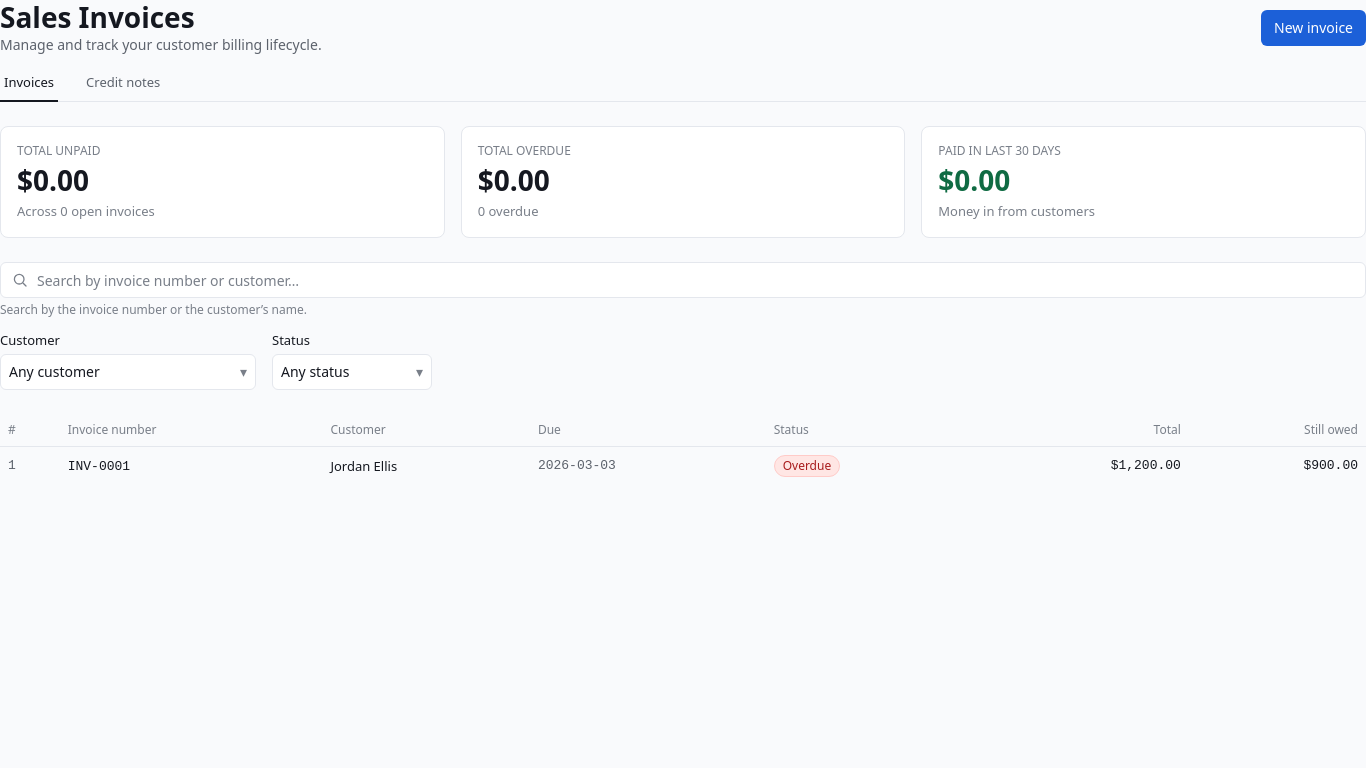
Test: SalesScreen › renders the void-with-allocations refusal as something to act on
This screenshot has width=1366, height=768.
What coordinates should you click on to do the following:
click the button "INV-0001"
I would click on:
 (99, 467)
Its box is [68,457,130,477].
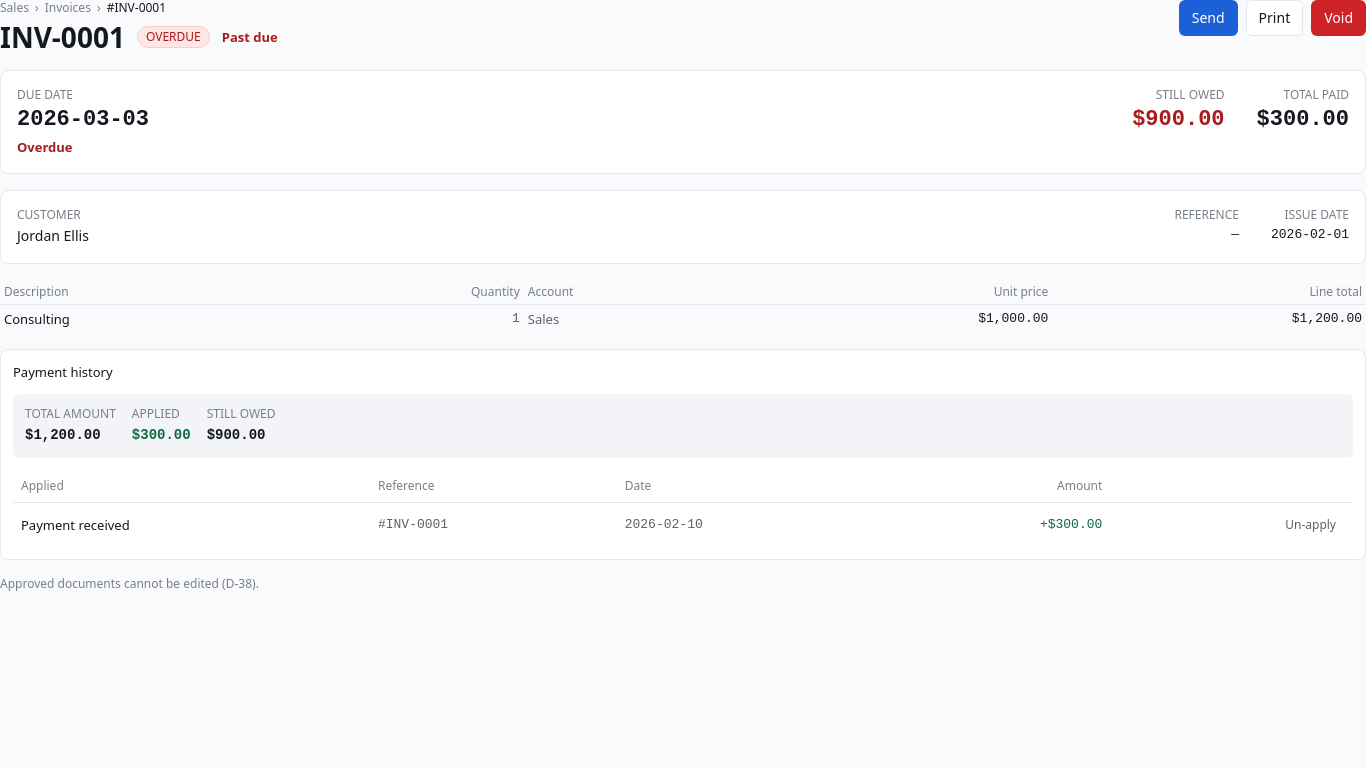
What coordinates should you click on to do the following:
click the button "Void"
I would click on:
 (1339, 18)
Its box is [1311,0,1365,36].
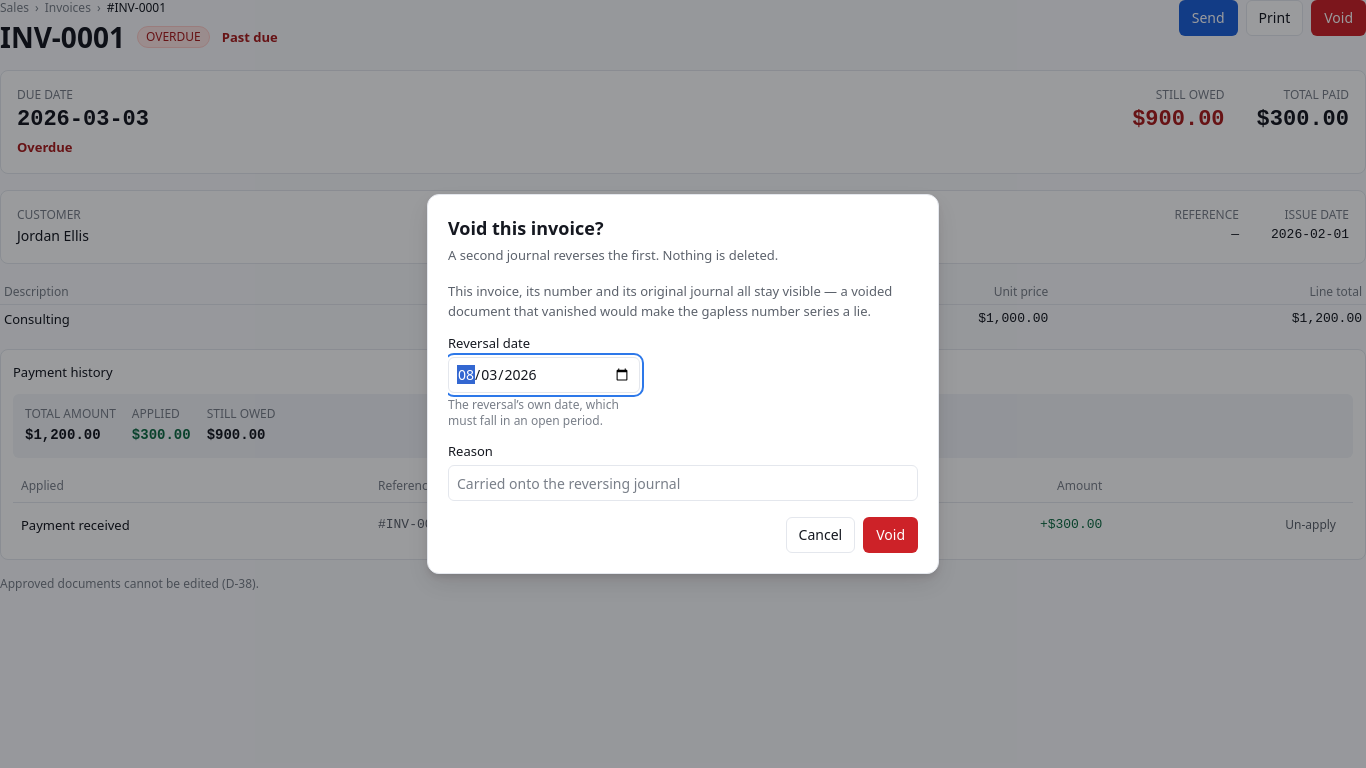
What coordinates should you click on to do the following:
click the button "Void"
I would click on:
 (891, 535)
Its box is [863,517,918,553].
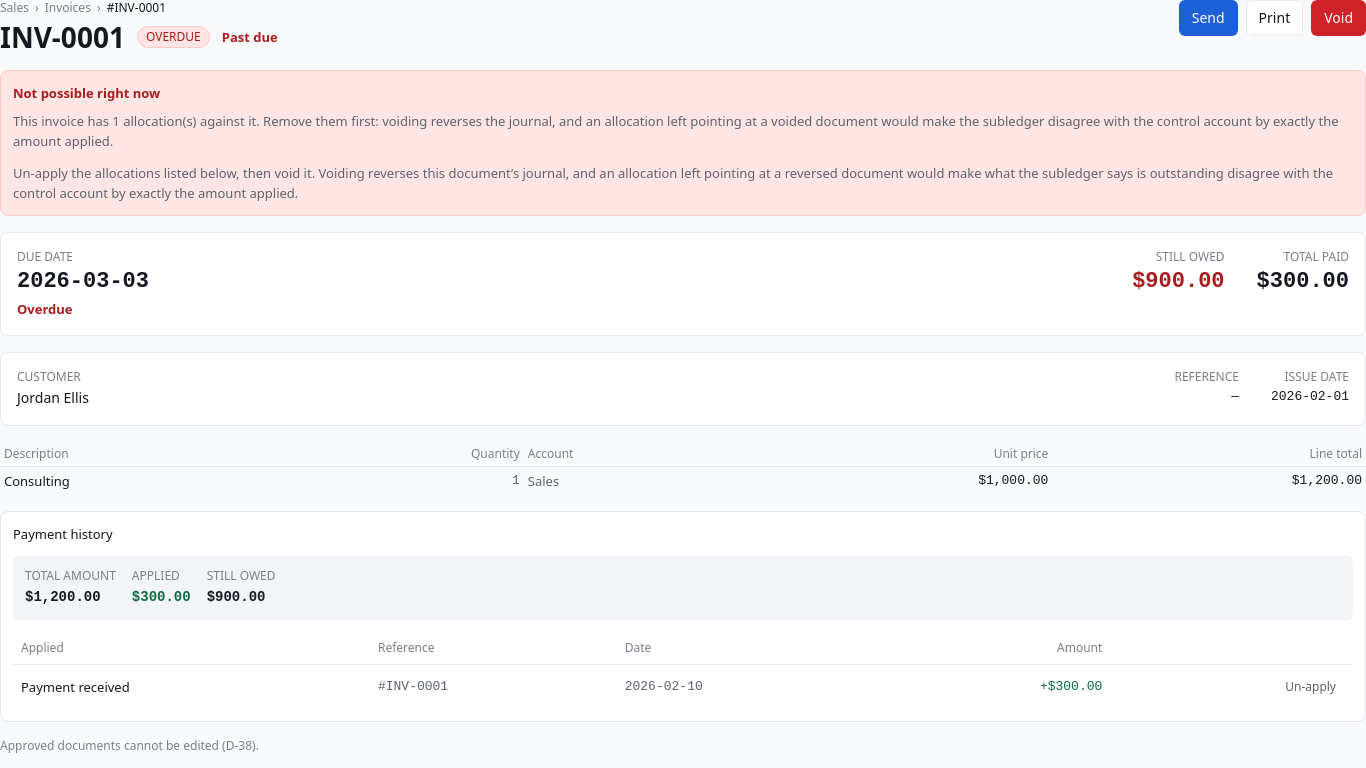
Check: the button "Un-apply" is enabled, box [1276,673,1345,701]
Check: the message shows "Remove them first", box [13,112,1338,150]
Check: the message shows "Un-apply the allocations listed below", box [13,164,1333,202]
